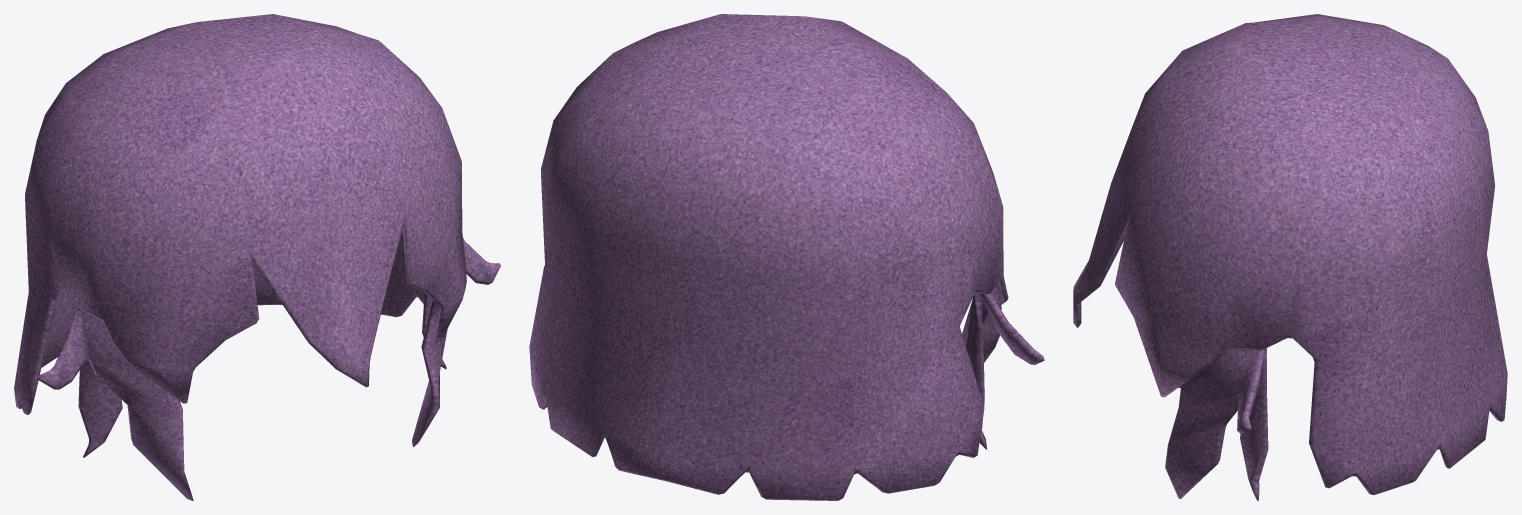
The model's file is Fumo_Frosted_Purple.glb.
The picture shows the model from 3 angles, left to right: view 1: azimuth 30°, elevation 25°; view 2: azimuth 150°, elevation 25°; view 3: azimuth 270°, elevation 25°; orthographic projection. The views are drawn at different scales.
Visible parts, largest first — view 1: Fumo_Frosted_Purple; view 2: Fumo_Frosted_Purple; view 3: Fumo_Frosted_Purple.
Boxes of the visible parts, box(x1,y1,x2,y2) form: Fumo_Frosted_Purple: box(14, 14, 500, 500); Fumo_Frosted_Purple: box(529, 14, 1044, 500); Fumo_Frosted_Purple: box(1073, 14, 1507, 500).
Size of the model in its own units: 1.18 by 0.9524 by 0.9326.
Materials: 1 (1 with a texture image).
